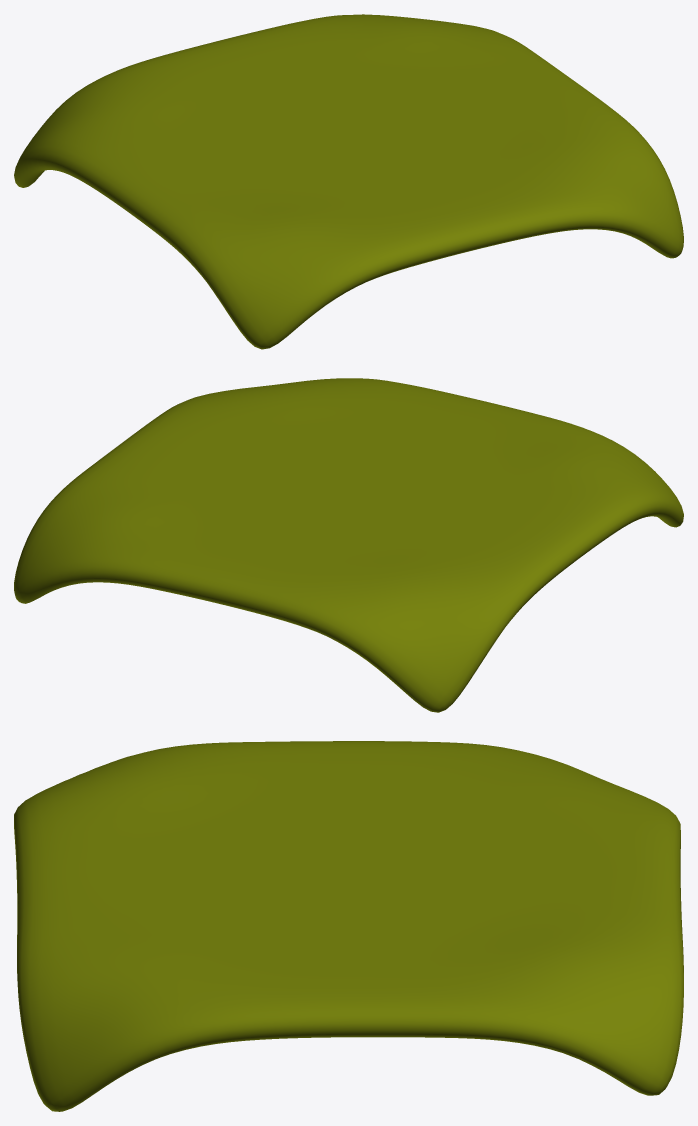
The model's file is moldyCheese.fbx.
3 views of the same model, one above another, from view 1: azimuth 30°, elevation 25°; view 2: azimuth 150°, elevation 25°; view 3: azimuth 270°, elevation 25° (orthographic). The views are drawn at different scales.
Parts seen in each view (by area): view 1: Plane.001; view 2: Plane.001; view 3: Plane.001.
Part boxes in pixels (x1,y1,x2,y2): Plane.001: [14, 14, 683, 349]; Plane.001: [14, 378, 683, 712]; Plane.001: [14, 741, 683, 1111].
Size of the model in its own units: 173 by 33.41 by 173.
